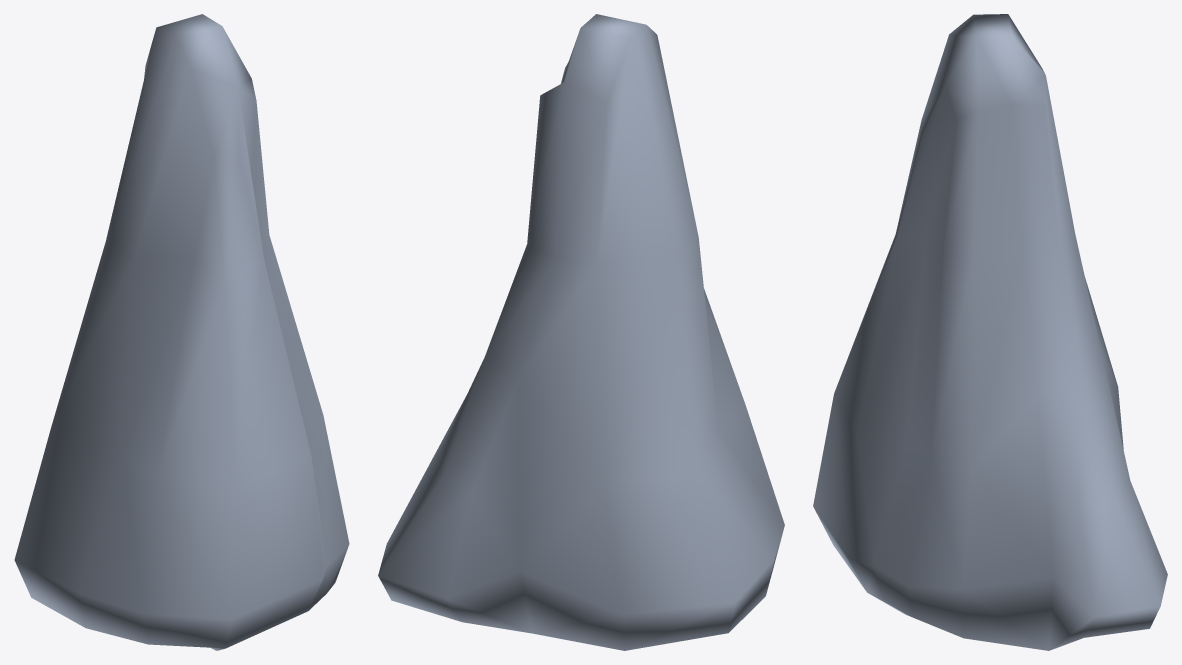
The model's file is Stalagmite_03.fbx.
3 views of the same model, side by side, from view 1: azimuth 30°, elevation 25°; view 2: azimuth 150°, elevation 25°; view 3: azimuth 270°, elevation 25° (orthographic). The views are drawn at different scales.
Parts seen in each view (by area): view 1: Stalagmite_03; view 2: Stalagmite_03; view 3: Stalagmite_03.
Part boxes in pixels (bbox=[...]): Stalagmite_03: bbox=[14, 14, 349, 650]; Stalagmite_03: bbox=[378, 14, 784, 650]; Stalagmite_03: bbox=[813, 14, 1167, 650].
Size of the model in its own units: 254 by 436 by 247.
